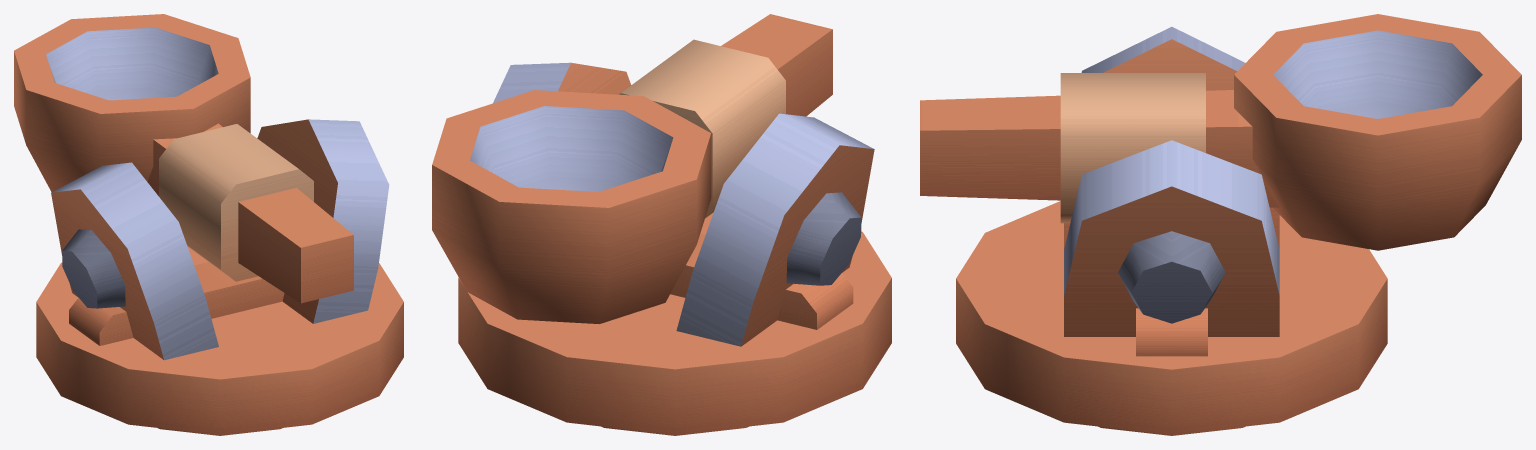
The model's file is weapon-catapult.glb.
The picture shows the model from 3 angles, left to right: view 1: azimuth 30°, elevation 25°; view 2: azimuth 150°, elevation 25°; view 3: azimuth 270°, elevation 25°; orthographic projection. The views are drawn at different scales.
Parts seen in each view (by area): view 1: weapon-catapult; view 2: weapon-catapult; view 3: weapon-catapult.
Part boxes in pixels (x1,y1,x2,y2): weapon-catapult: (14,14,403,435); weapon-catapult: (432,14,891,435); weapon-catapult: (920,14,1521,435).
Bounding box in the file's own units: 0.6 × 0.4625 × 0.8366.
1 material, 1 textured.
